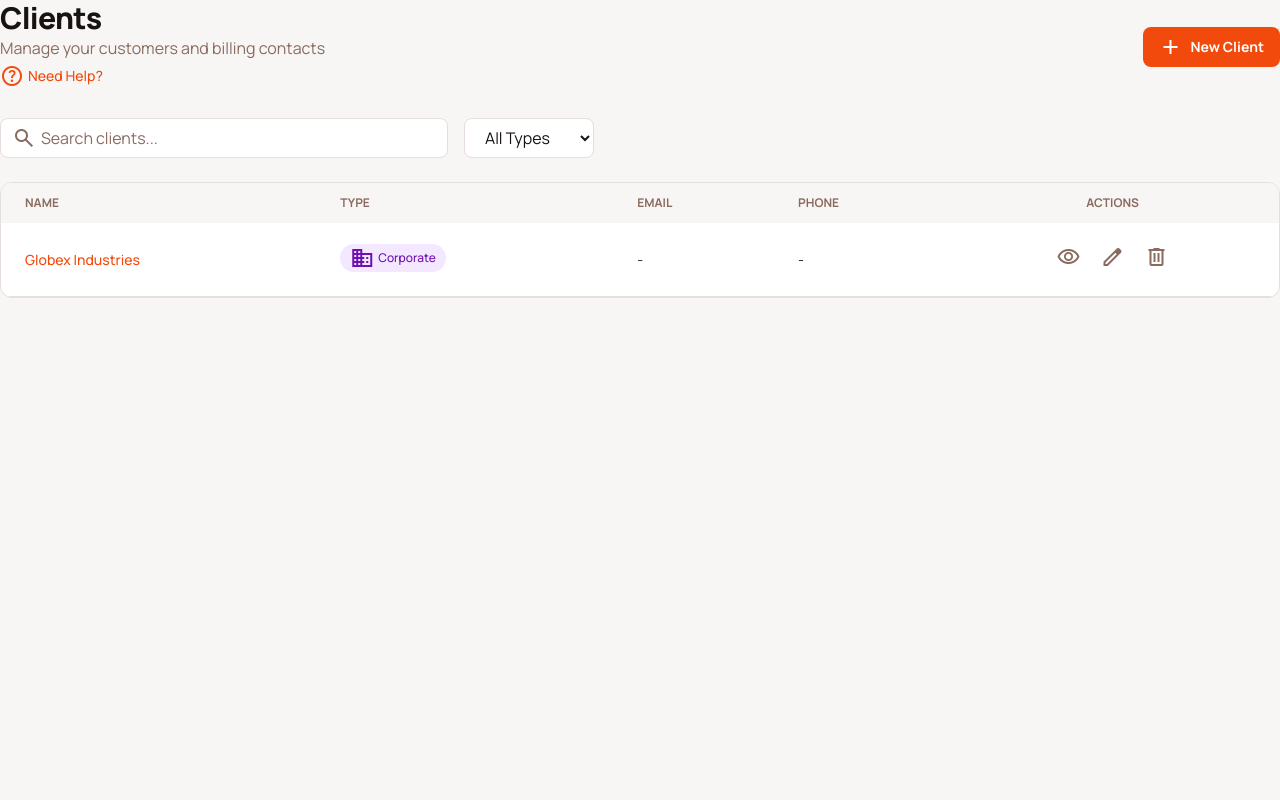
Test: ClientListPage delete confirmation (SOUPFIN-21) › shows the resolved company name (not a blank) when deleting a corporate client with null name
Click the button with test id "client-delete-c9".
click(1157, 260)  # box [1139,239,1175,280]
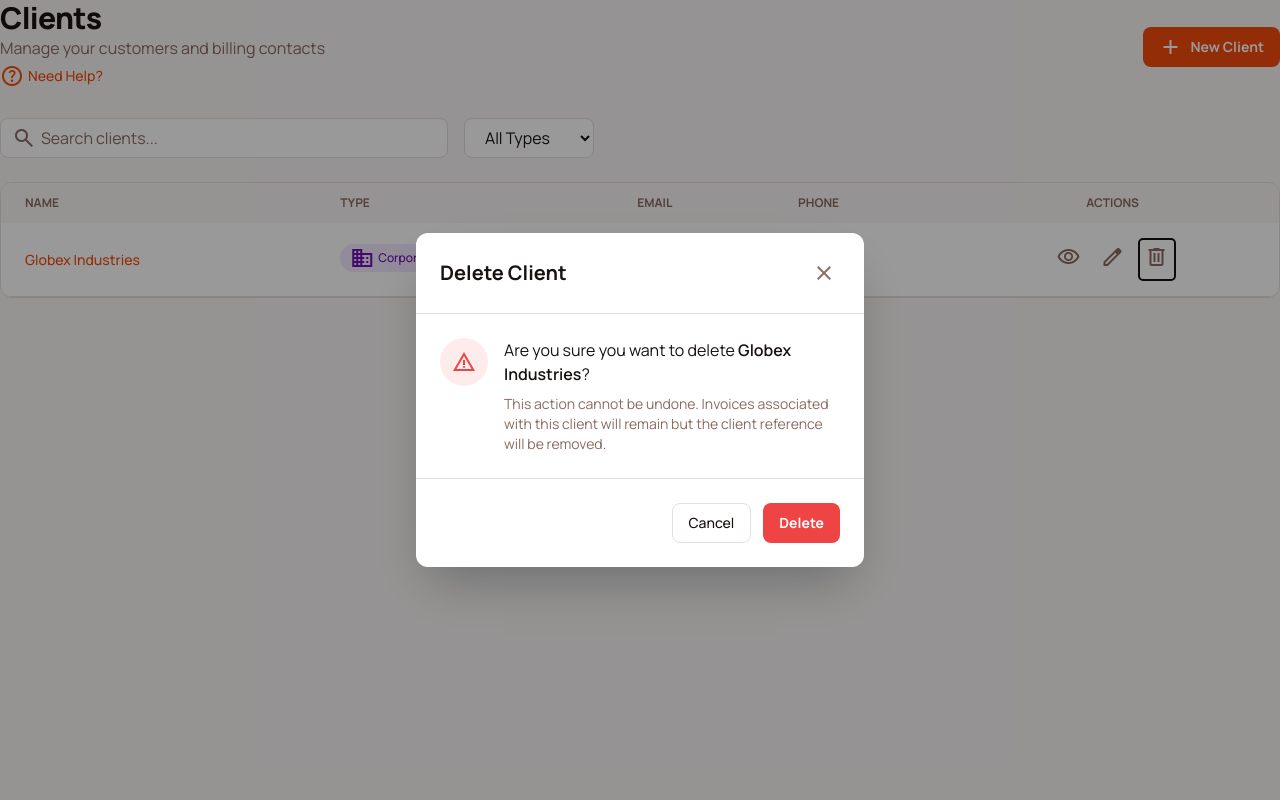
Check: the element with test id "delete-confirmation-modal" shows "Globex Industries", box [504,339,791,385]
